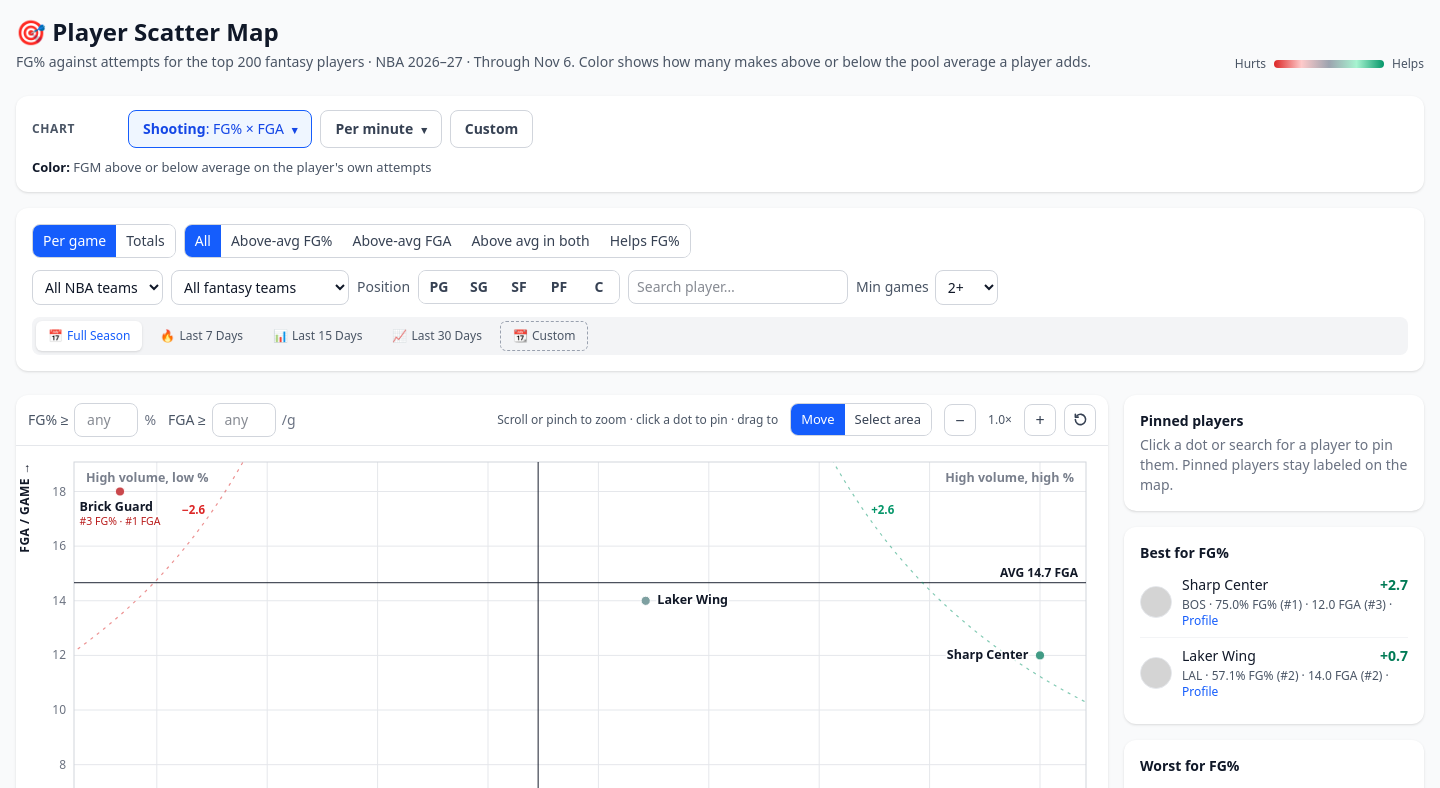
Test case: ShootingMap page › narrows to a fantasy team, and to free agents
This screenshot has width=1440, height=788.
Expected: the heading "Best for FG%" is shown, [1140, 542, 1229, 562]
Select "Roy Team" in the 2nd dropdown named "Fantasy team". click: [260, 287]
box: [171, 270, 349, 304]
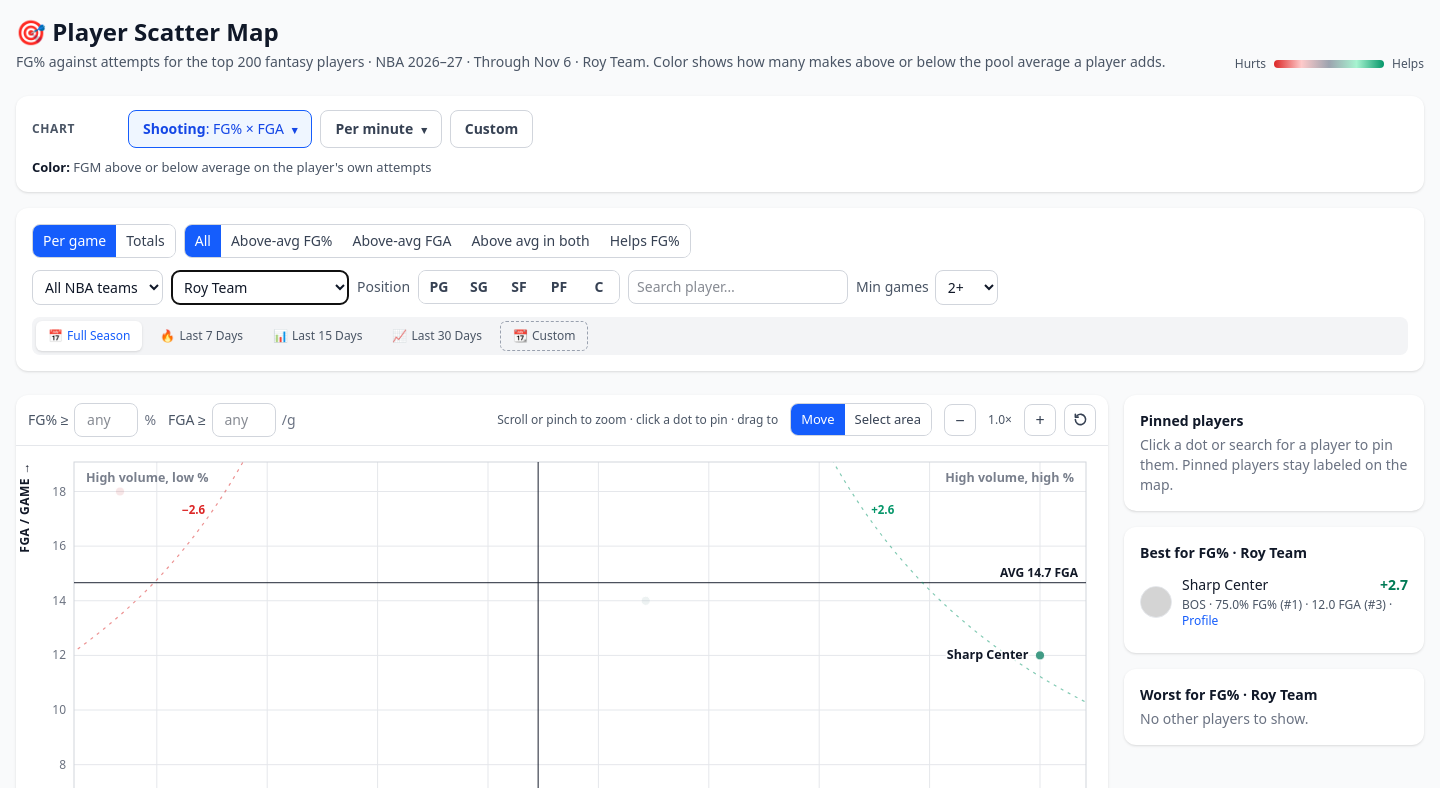
Expected: the button "Sharp Center" is shown, [1182, 574, 1268, 594]
Select "Free agents / waivers" in the 2nd dropdown named "Fantasy team". click: [260, 287]
box: [171, 270, 349, 304]
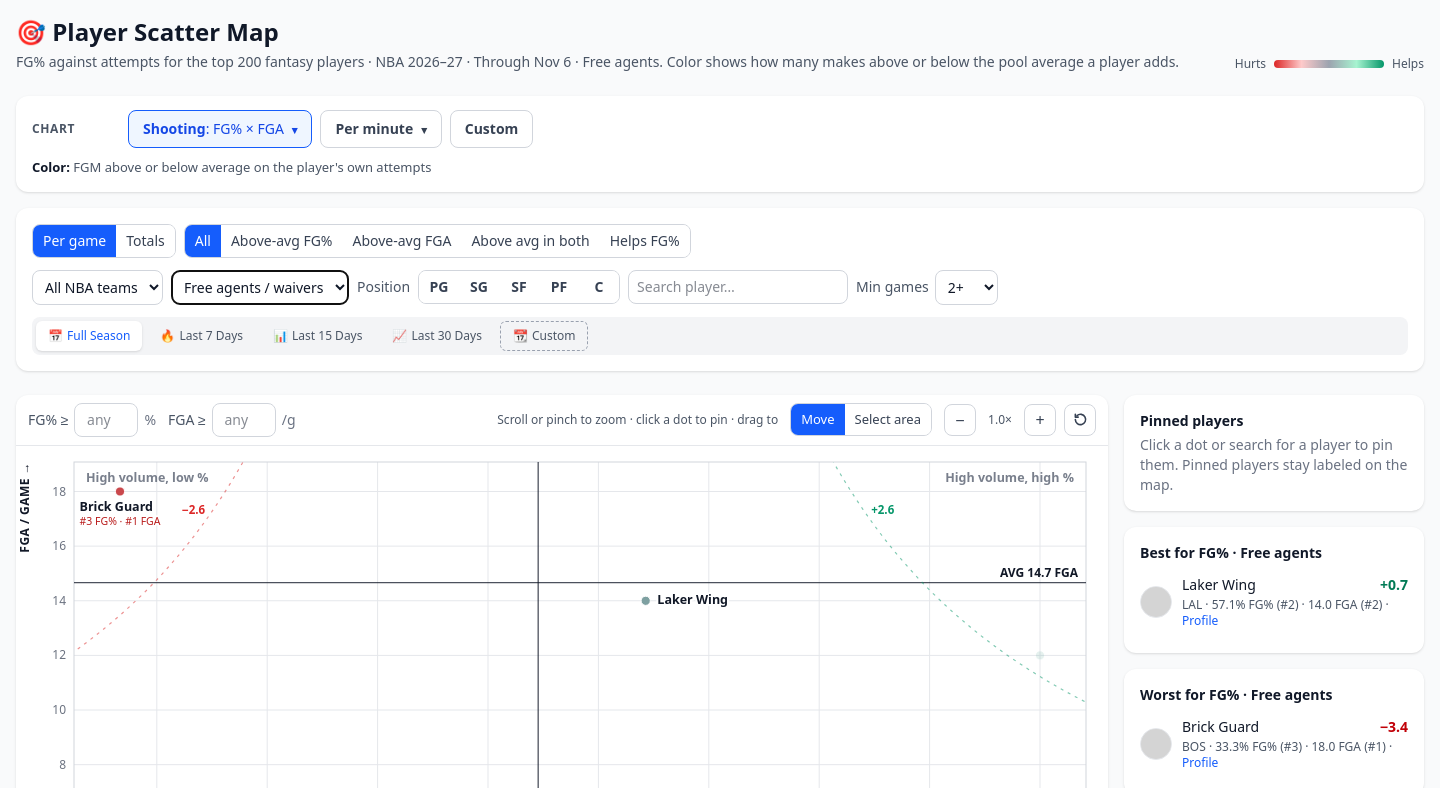
Expected: the button "Brick Guard" is shown, [1182, 716, 1259, 736]
